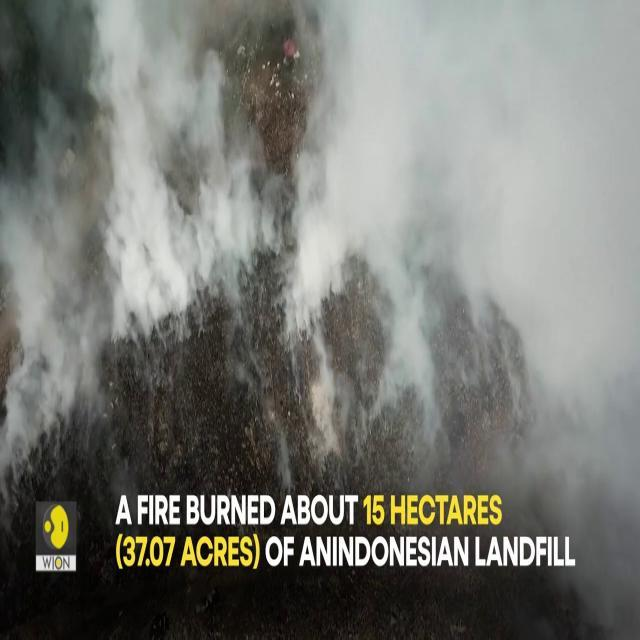Smoke: (284, 0, 640, 523), (0, 1, 270, 478)
